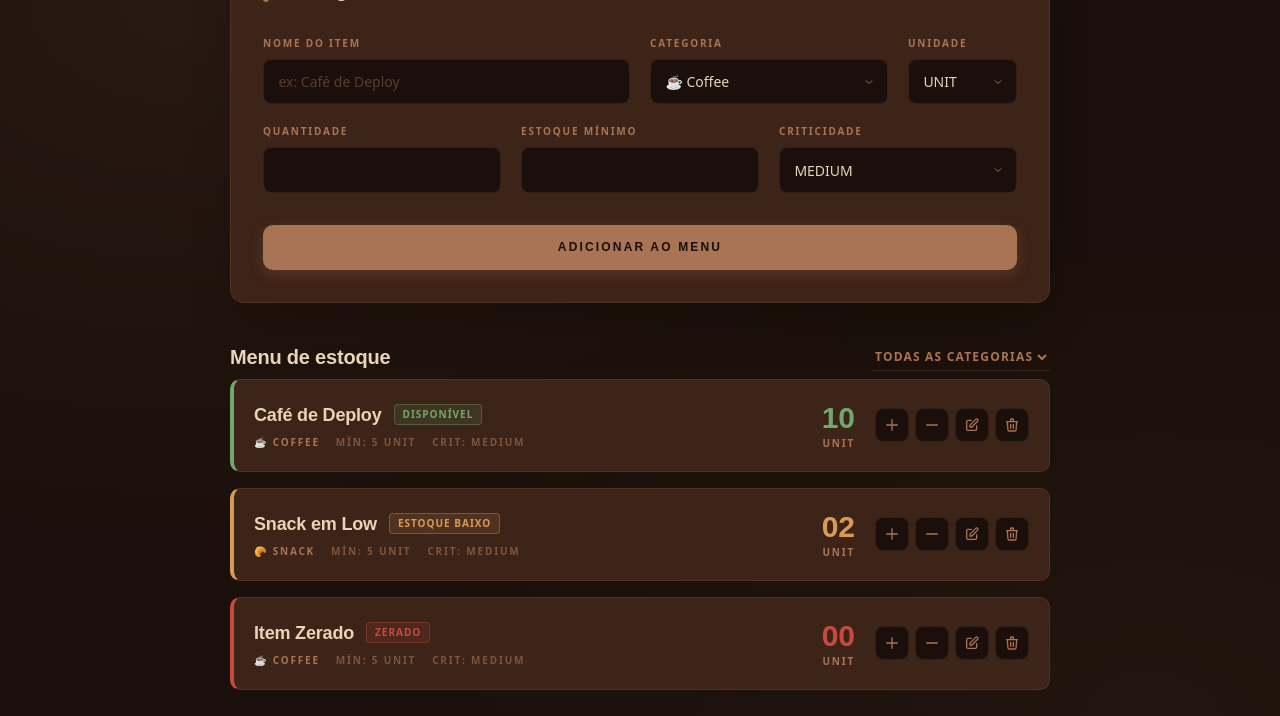
PipelineCafePage › renderização e estados da lista › filtra itens por categoria e mostra estado vazio
(page scrolled)
Select "🚀 Deploy" in the dropdown showing "todas as categorias". click: (960, 357)
box: [871,343,1050,371]
(page scrolled)
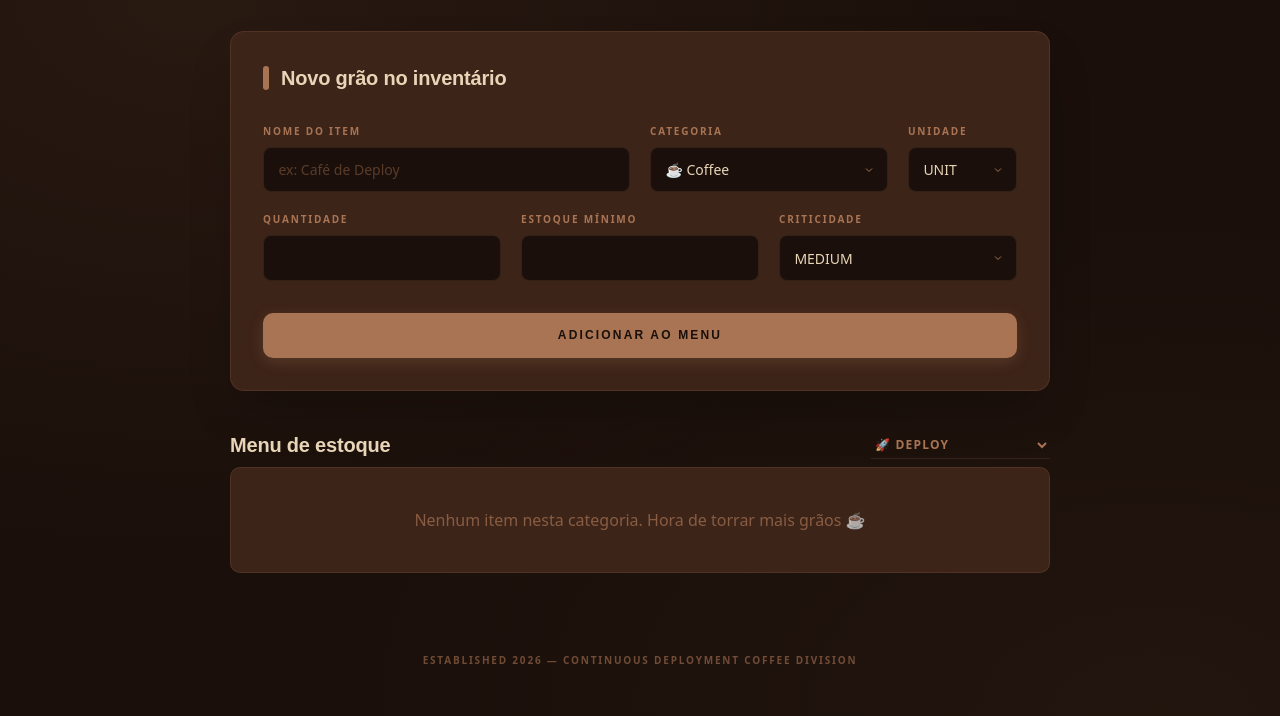
Check: the text "Nenhum item nesta categoria. Hora de torrar mais grãos ☕" is shown, box [414,509,866,531]
